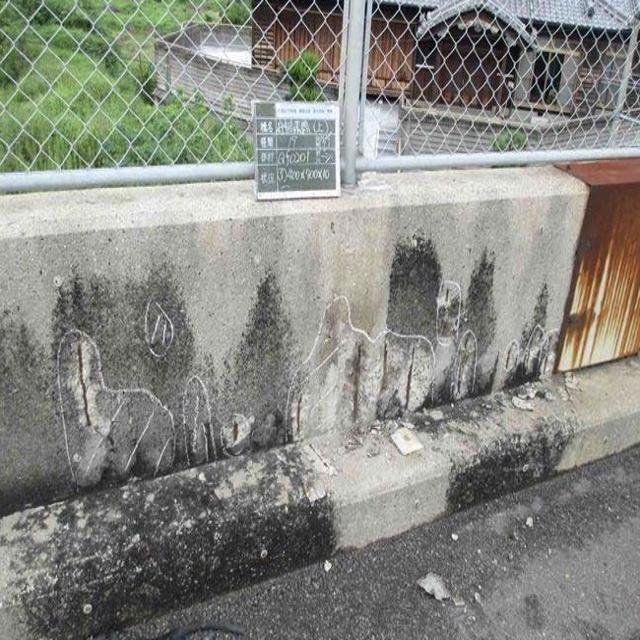spalling: (300, 326, 484, 447), (174, 397, 276, 466), (53, 324, 110, 446)
